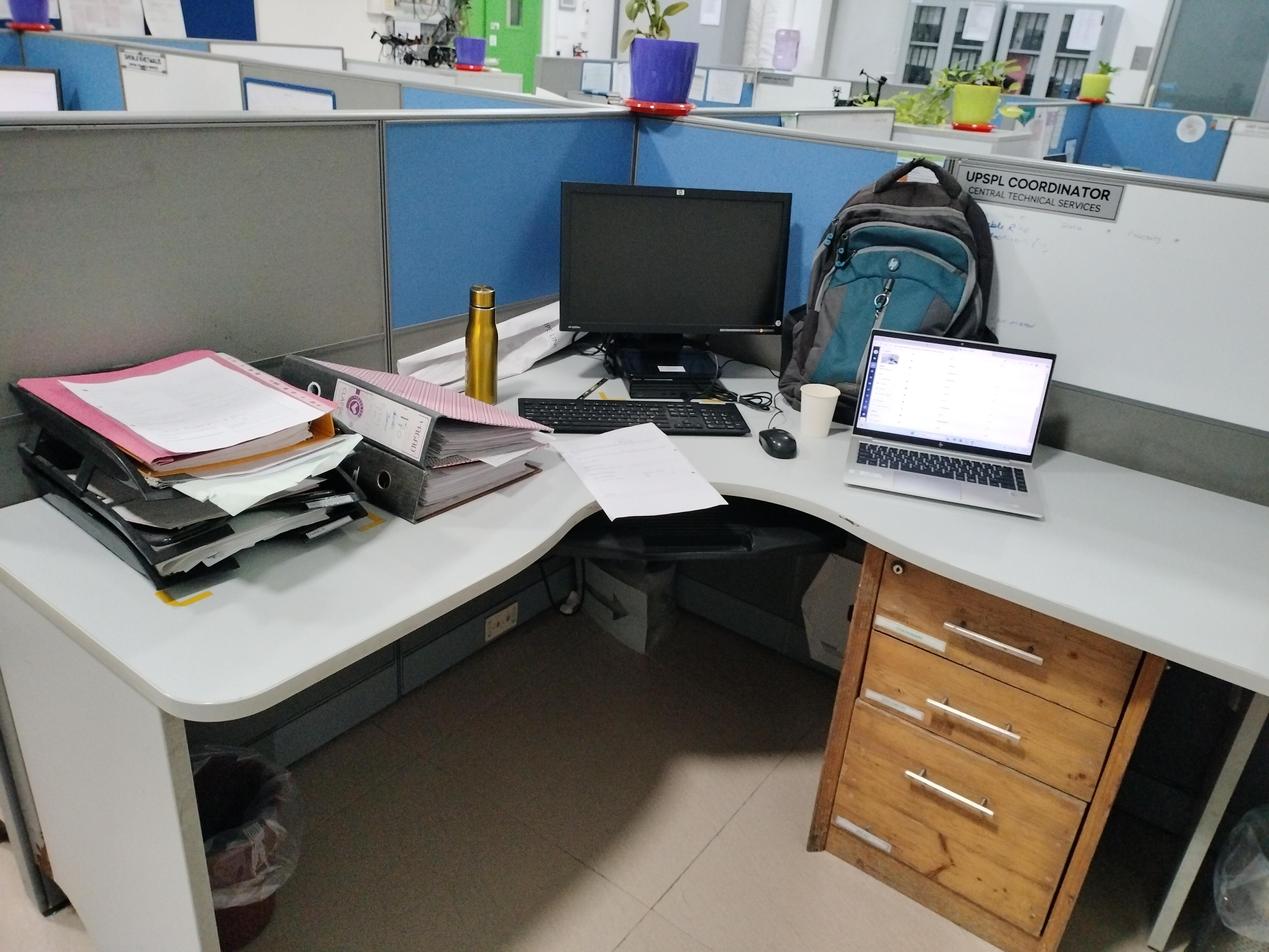bag: (775, 153, 1002, 429)
bottle: (460, 280, 509, 403)
desktop: (555, 176, 789, 387)
file: (274, 347, 560, 531)
filetray: (5, 343, 379, 598)
laptop: (841, 326, 1062, 523)
mouse: (755, 425, 801, 461)
mug: (796, 381, 842, 443)
nameplate: (954, 151, 1128, 228)
page: (547, 419, 735, 527)
vase: (618, 27, 706, 126)
